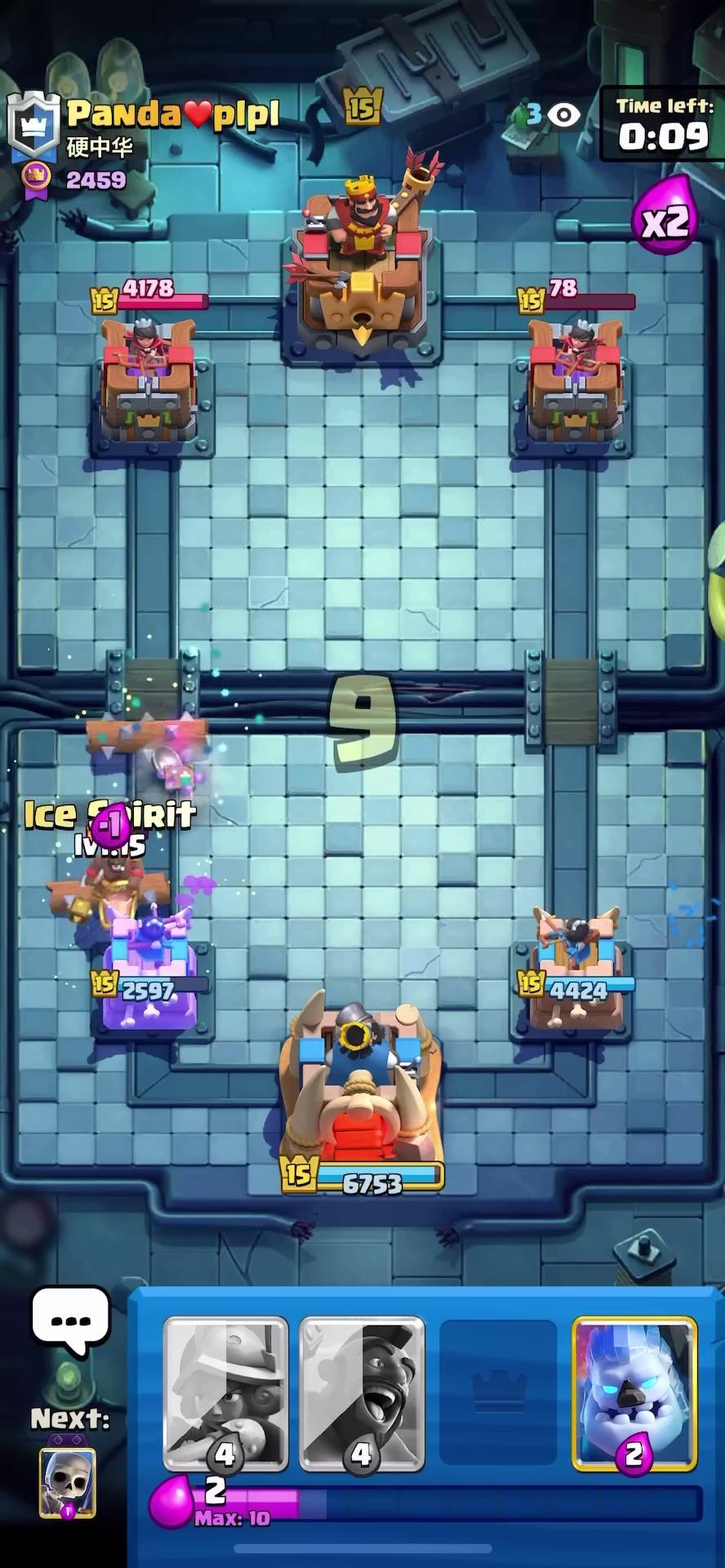log: (73, 715, 220, 755), (37, 882, 186, 909)
